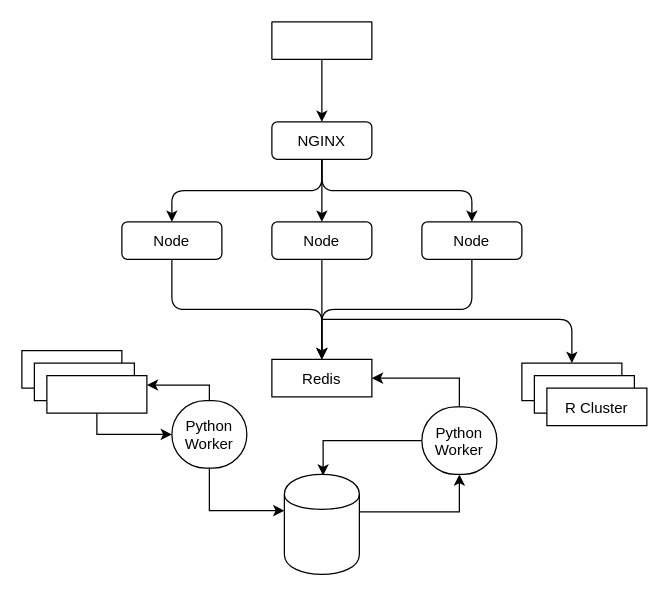
The diagram is 669 pixels wide and 596 high, and some of its shapes have lost their labels. Each missing label, with the box of its shape:
Client: (271, 21, 372, 59)
Log Data: (46, 374, 147, 413)
Postgres: (283, 473, 359, 574)
